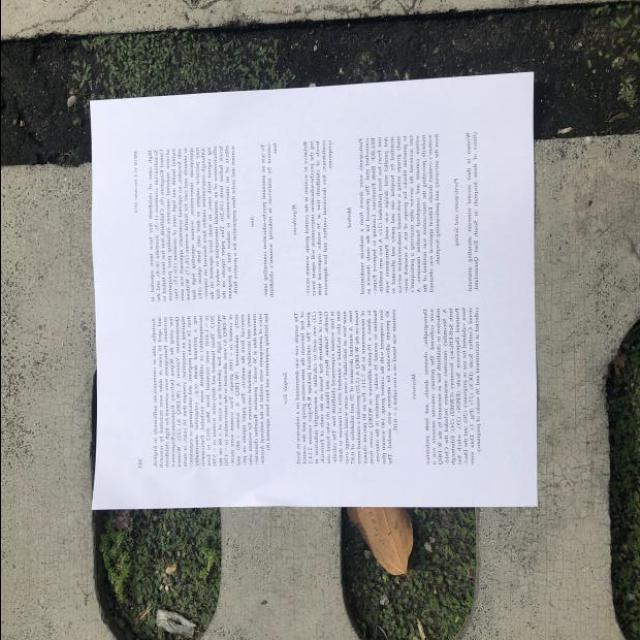kertas: (89, 73, 537, 510)
